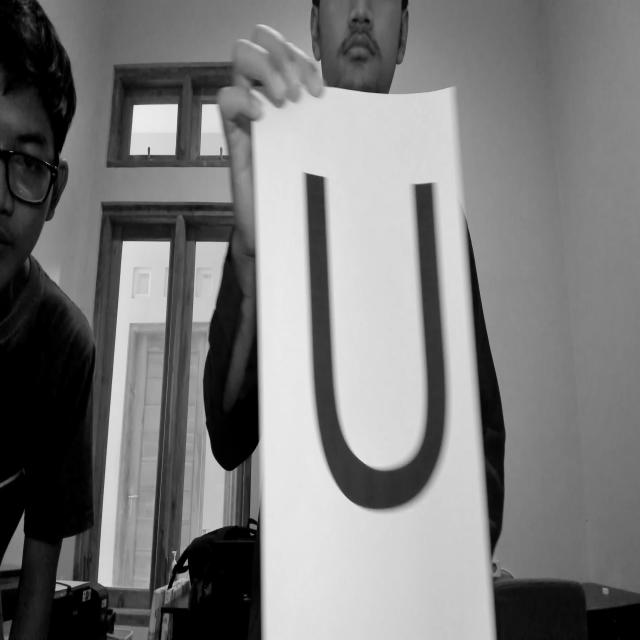u: (272, 153, 468, 517)
